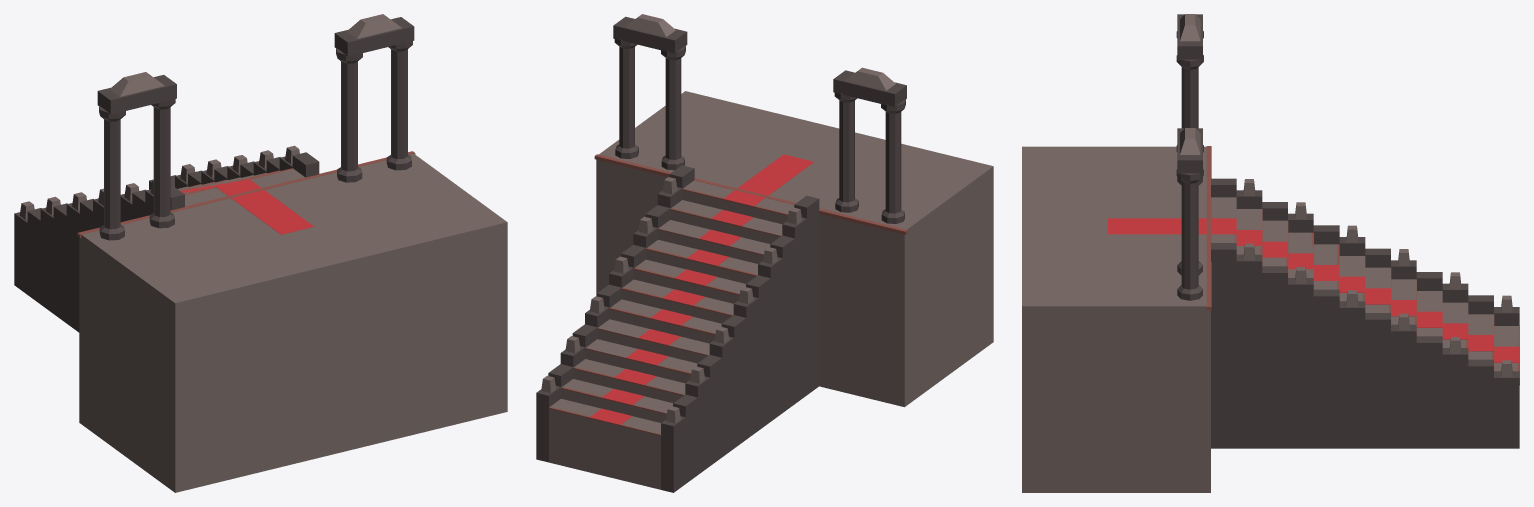
Rendered from HellStairs.obj.
3 renders of one model, left to right at view 1: azimuth 30°, elevation 25°; view 2: azimuth 150°, elevation 25°; view 3: azimuth 270°, elevation 25°, orthographic. The views are drawn at different scales.
Parts seen in each view (by area): view 1: HellStairs; view 2: HellStairs; view 3: HellStairs.
Part boxes in pixels (x1=…): HellStairs: x1=14, y1=14, x2=507, y2=492; HellStairs: x1=536, y1=14, x2=993, y2=492; HellStairs: x1=1022, y1=14, x2=1519, y2=492.
Bounding box in the file's own units: 22.2 × 21.65 × 29.01.
Materials: 1 (1 with a texture image).
